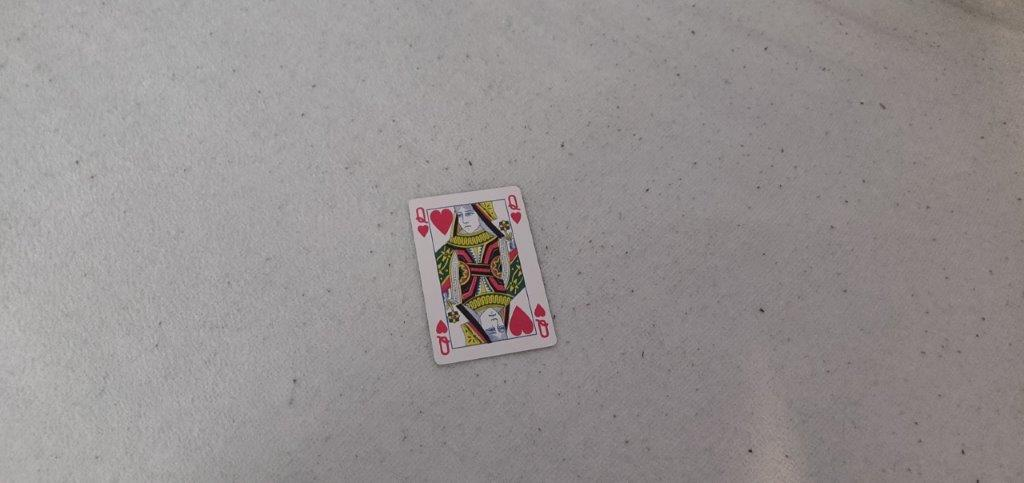QH: (412, 205, 434, 239), (504, 192, 524, 227)
